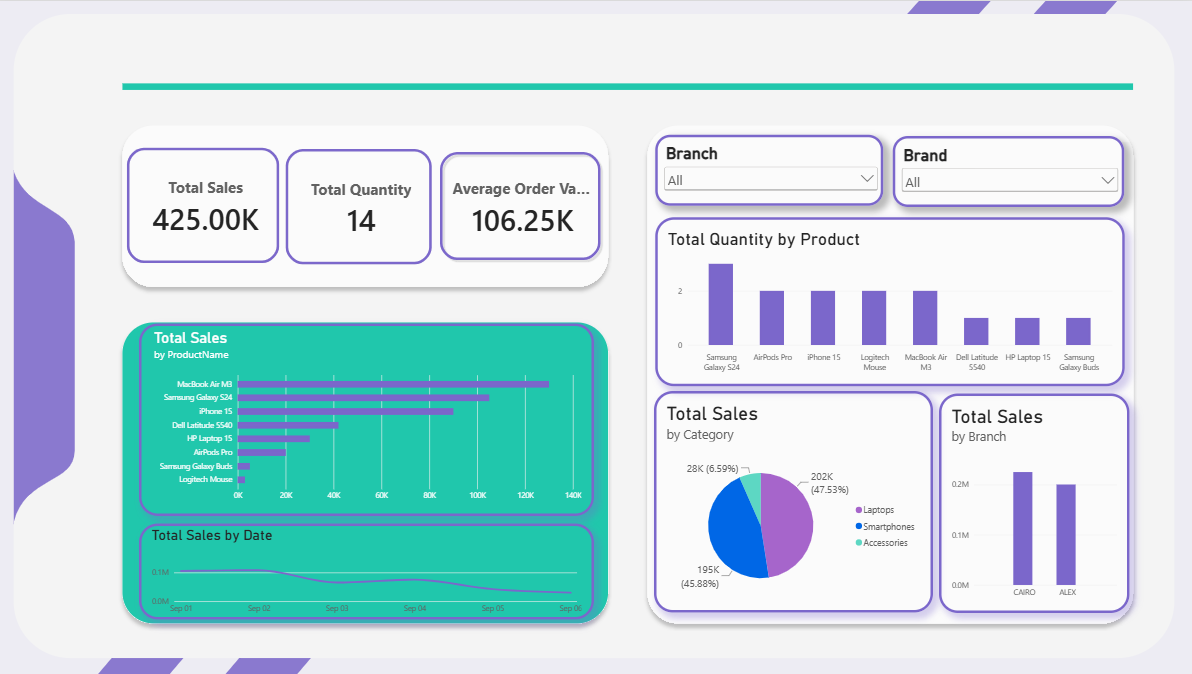

The page's visual inventory and layout, read from the dashboard file:
{"tool":"powerbi","page":{"name":"Page 1","canvas":[1920,1080],"ordinal":0},"visuals":[{"type":"cardVisual","fields":{"Data":["Gold FactSales.Total Sales"]},"box":[212.8,233.7,245.9,186.6],"z":0},{"type":"cardVisual","fields":{"Data":["Gold FactSales.Total Quantity"]},"box":[465.7,236,235.5,186.6],"z":1000},{"type":"cardVisual","fields":{"Data":["Gold FactSales.Average Order Value"]},"box":[708.1,236,268.6,184.9],"z":2000},{"type":"clusteredColumnChart","fields":{"Category":["Gold FactSales.Branch"],"Y":["Gold FactSales.Total Sales"]},"box":[1511.2,627.5,305,351.2],"z":3000},{"type":"slicer","fields":{"Values":["Gold FactSales.Branch"]},"box":[1057.5,213.8,365,113.8],"z":4000},{"type":"lineChart","title":"Total Sales by Date","fields":{"Category":["Gold DimDate.FullDate.Variation.Date Hierarchy.Year","Gold DimDate.FullDate.Variation.Date Hierarchy.Quarter","Gold DimDate.FullDate.Variation.Date Hierarchy.Month","Gold DimDate.FullDate.Variation.Date Hierarchy.Day"],"Y":["Gold FactSales.Total Sales"]},"box":[232.5,836.7,728.3,153.3],"z":5000},{"type":"clusteredBarChart","fields":{"Category":["Gold DimProduct.ProductName"],"Y":["Gold FactSales.Total Sales"]},"box":[231.7,516.7,728.3,308.3],"z":6000},{"type":"pieChart","fields":{"Category":["Gold DimProduct.Category"],"Y":["Gold FactSales.Total Sales"]},"box":[1057,624.4,446.5,354.1],"z":7000},{"type":"clusteredColumnChart","title":"Total Quantity by Product","fields":{"Category":["Gold DimProduct.ProductName"],"Y":["Gold FactSales.Total Quantity"]},"box":[1057.5,346.2,751.2,270],"z":7001},{"type":"slicer","fields":{"Values":["Gold DimProduct.Brand"]},"box":[1438.8,215,370,113.8],"z":7002}]}

Visuals, with their boxes in screenshot pixels (x1, y1, x2, y2), scaled from the page's 1920x1080 canvas onto the 1192x674 screenshot:
cardVisual - Gold FactSales.Total Sales: crop(132, 146, 285, 262)
cardVisual - Gold FactSales.Total Quantity: crop(289, 147, 435, 264)
cardVisual - Gold FactSales.Average Order Value: crop(440, 147, 606, 263)
clusteredColumnChart - Gold FactSales.Branch x Gold FactSales.Total Sales: crop(938, 392, 1128, 611)
slicer - Gold FactSales.Branch: crop(657, 133, 883, 204)
"Total Sales by Date" lineChart: crop(144, 522, 596, 618)
clusteredBarChart - Gold DimProduct.ProductName x Gold FactSales.Total Sales: crop(144, 322, 596, 515)
pieChart - Gold DimProduct.Category x Gold FactSales.Total Sales: crop(656, 390, 933, 611)
"Total Quantity by Product" clusteredColumnChart: crop(657, 216, 1123, 385)
slicer - Gold DimProduct.Brand: crop(893, 134, 1123, 205)
